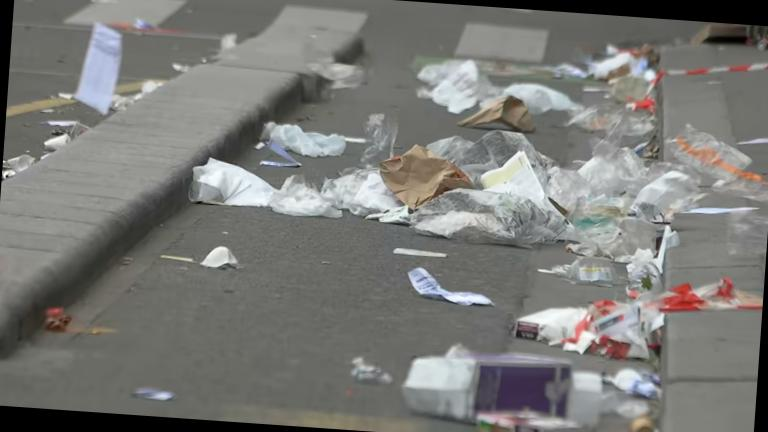trash: (424, 120, 578, 218), (511, 272, 670, 366), (476, 329, 612, 432), (398, 190, 578, 256), (636, 262, 766, 353), (52, 9, 132, 145), (395, 230, 511, 322), (172, 150, 300, 230), (369, 134, 476, 212), (320, 158, 414, 240), (626, 153, 710, 242), (676, 128, 762, 205), (574, 140, 660, 212), (577, 23, 665, 92), (415, 44, 500, 113), (416, 348, 500, 415), (592, 76, 660, 157), (245, 119, 353, 168), (493, 76, 587, 131), (265, 173, 346, 236), (536, 143, 602, 218), (454, 88, 530, 148), (717, 194, 768, 276), (601, 356, 677, 410), (300, 56, 375, 110), (354, 110, 407, 185), (328, 345, 404, 394), (605, 391, 682, 432), (32, 295, 87, 344), (112, 68, 160, 119), (157, 46, 214, 88), (258, 134, 302, 181), (124, 378, 180, 414), (190, 240, 236, 277), (2, 146, 44, 185), (214, 30, 244, 60), (42, 124, 70, 156), (151, 248, 183, 272), (128, 13, 156, 40)
